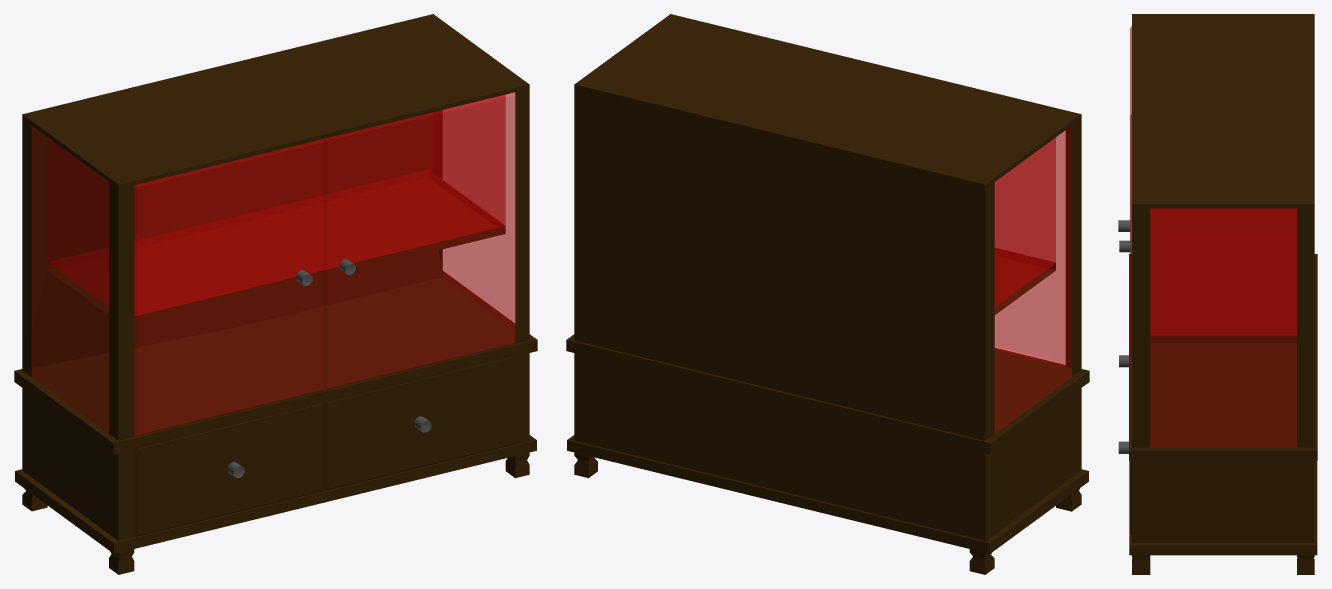
Rendered from cristaleira_arrumada.fbx.
3 renders of one model, left to right at view 1: azimuth 30°, elevation 25°; view 2: azimuth 150°, elevation 25°; view 3: azimuth 270°, elevation 25°, orthographic. The views are drawn at different scales.
Visible parts, largest first — view 1: polySurface6; view 2: polySurface6; view 3: polySurface6.
Boxes of the visible parts, <box> form: polySurface6: <box>14,14,537,574</box>; polySurface6: <box>566,14,1089,574</box>; polySurface6: <box>1118,14,1317,574</box>.
Bounding box in the file's own units: 6.44 × 5.66 × 2.75.
